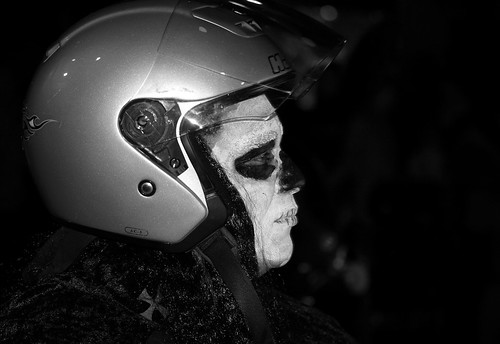helmet: (13, 1, 229, 248)
